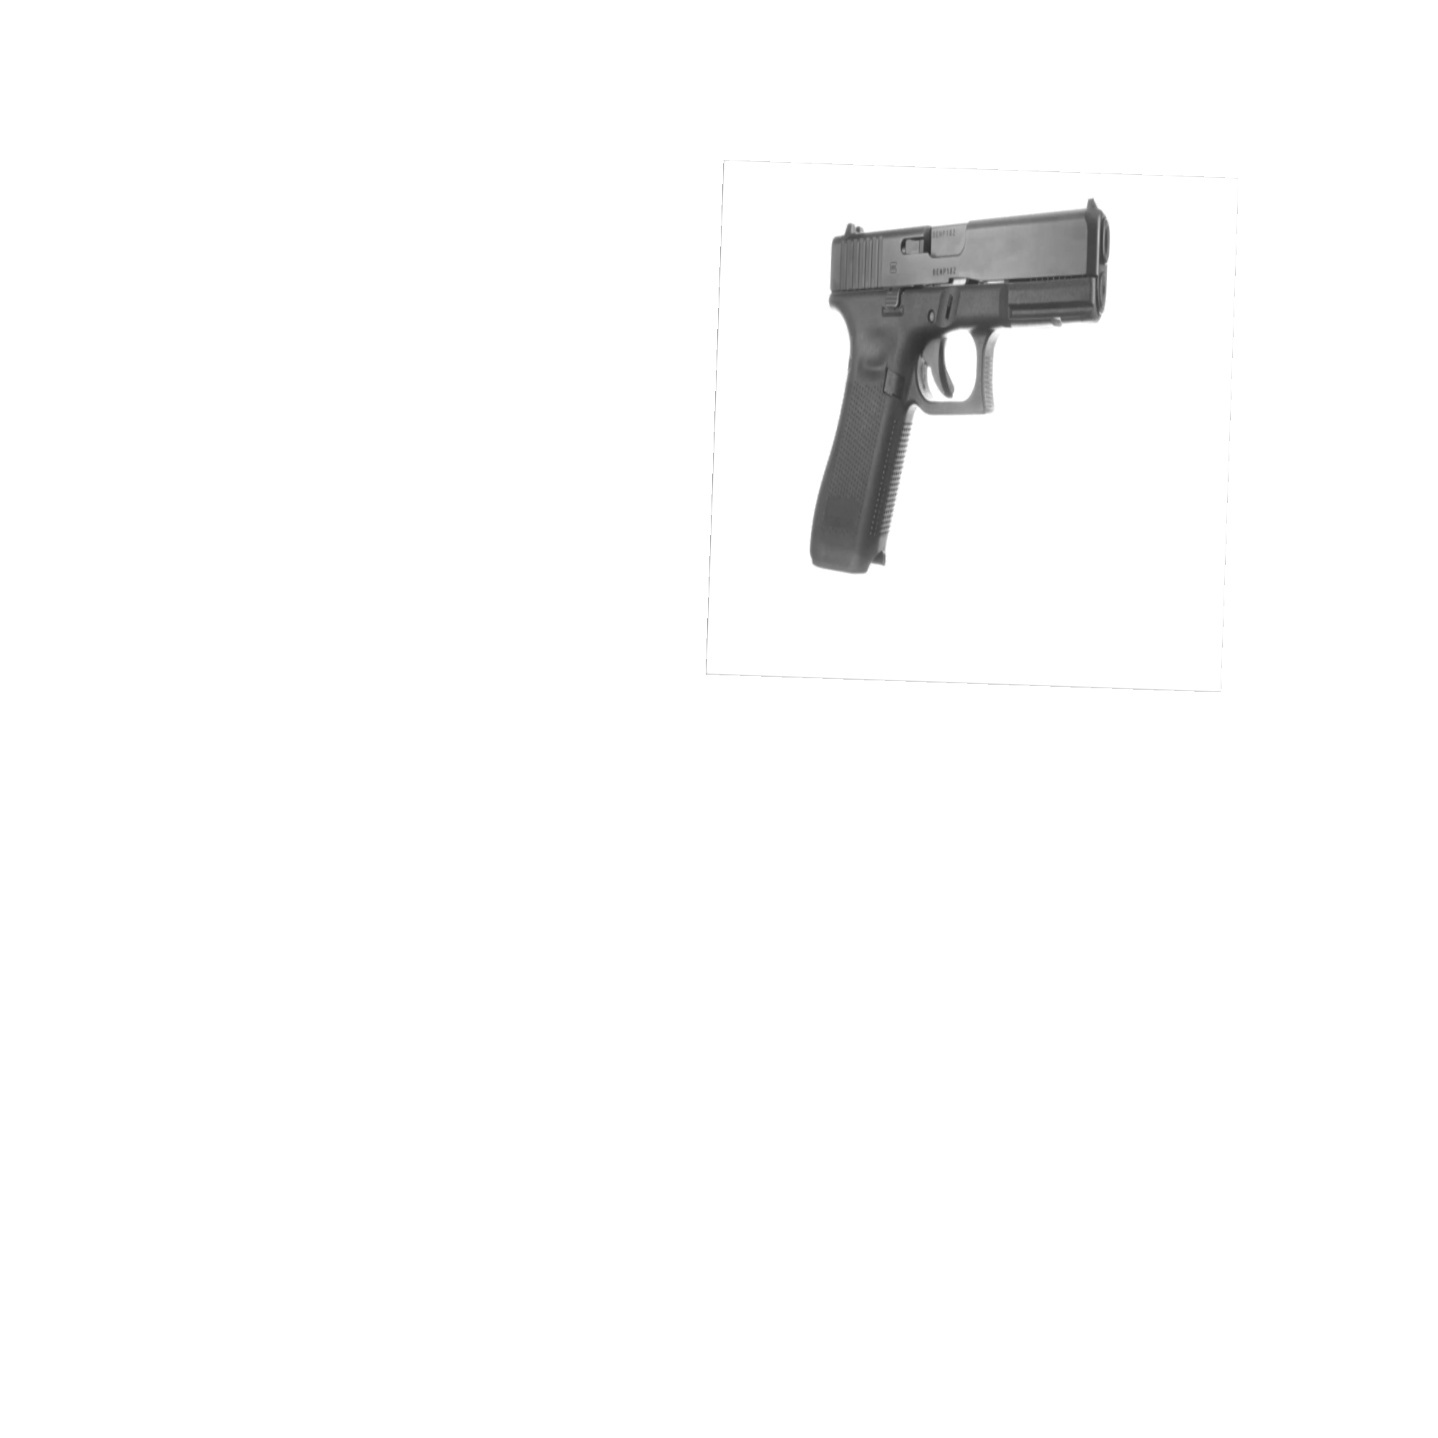gun: (809, 199, 1110, 577)
